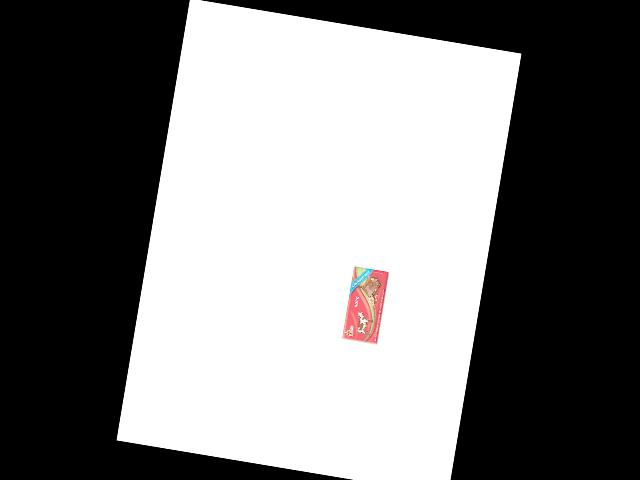chocolate: (341, 266, 388, 347)
